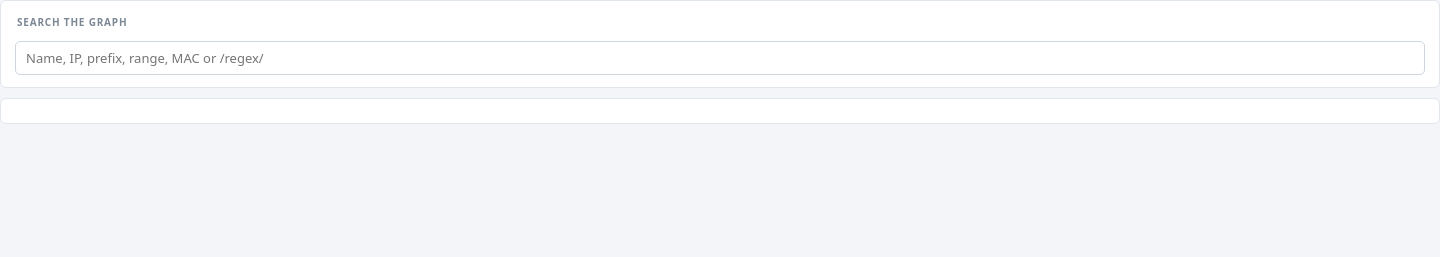
Scenario: search routes › lists the routes of every device for an address the node search does not find
Type "10.24.0.0" into the search field.
click(720, 58); type("10.24.0.0")  # box [15,41,1425,75]
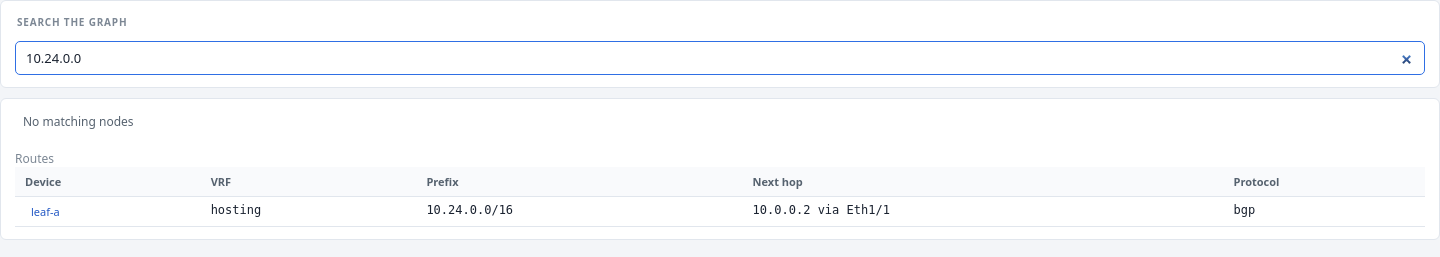
Expected: the row "leaf-a hosting 10.24.0.0/16 10.0.0.2 via Eth1/1 bgp" is shown, [15,196,1425,226]
Expected: the text "No matching nodes" is shown, [23,113,134,130]
